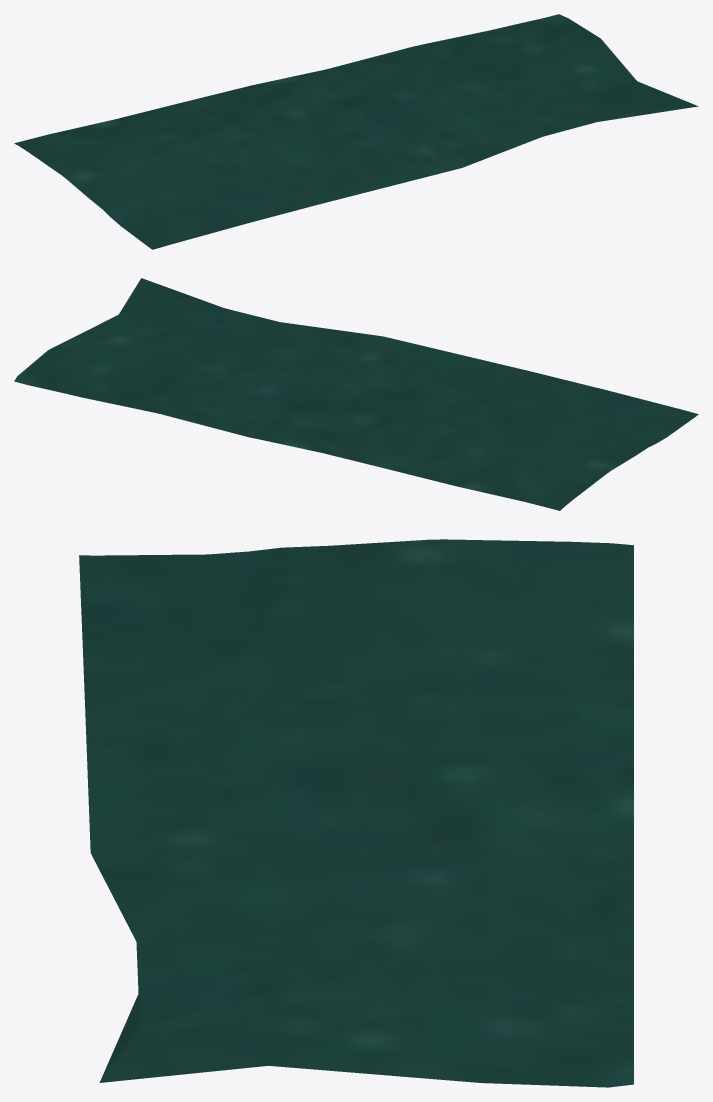
The picture shows the model from 3 angles, top to bottom: view 1: azimuth 30°, elevation 25°; view 2: azimuth 150°, elevation 25°; view 3: azimuth 270°, elevation 25°; orthographic projection. The views are drawn at different scales.
Bounding box in the file's own units: 30.02 × 0.4554 × 13.08.
Materials: 1 (1 with a texture image).
